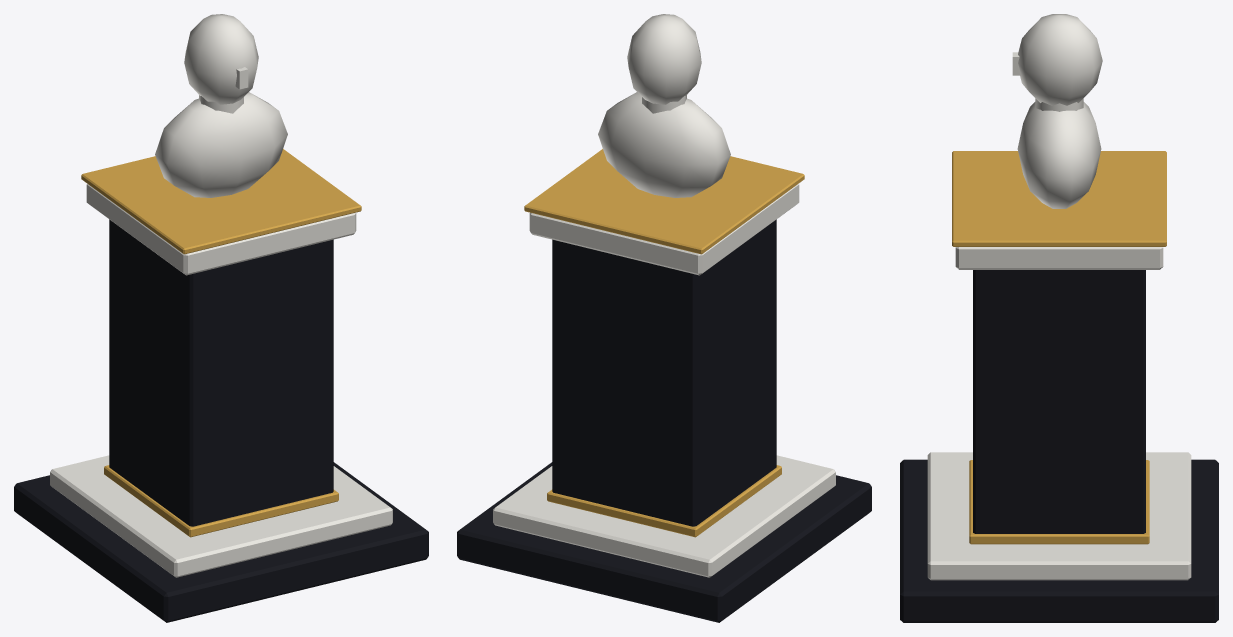
Rendered from statue_bust.glb.
3 renders of one model, left to right at view 1: azimuth 30°, elevation 25°; view 2: azimuth 150°, elevation 25°; view 3: azimuth 270°, elevation 25°, orthographic. The views are drawn at different scales.
Visible parts, largest first — view 1: statue_bust; view 2: statue_bust; view 3: statue_bust.
Part boxes in pixels (bbox=[...]): statue_bust: bbox=[14, 14, 428, 622]; statue_bust: bbox=[457, 14, 871, 622]; statue_bust: bbox=[900, 14, 1218, 622].
Bounding box in the file's own units: 0.92 × 1.72 × 0.92.
